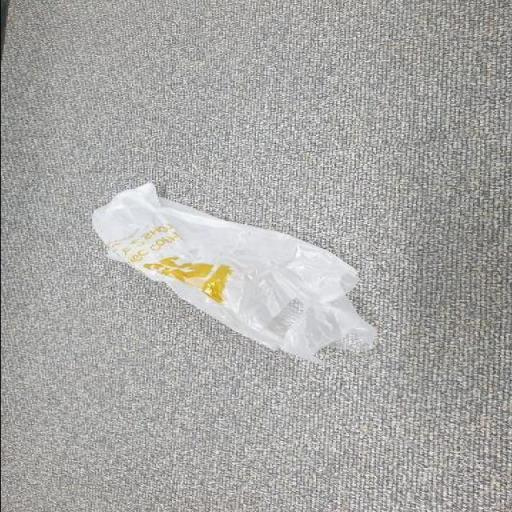plastic-bag: (89, 186, 378, 363)
